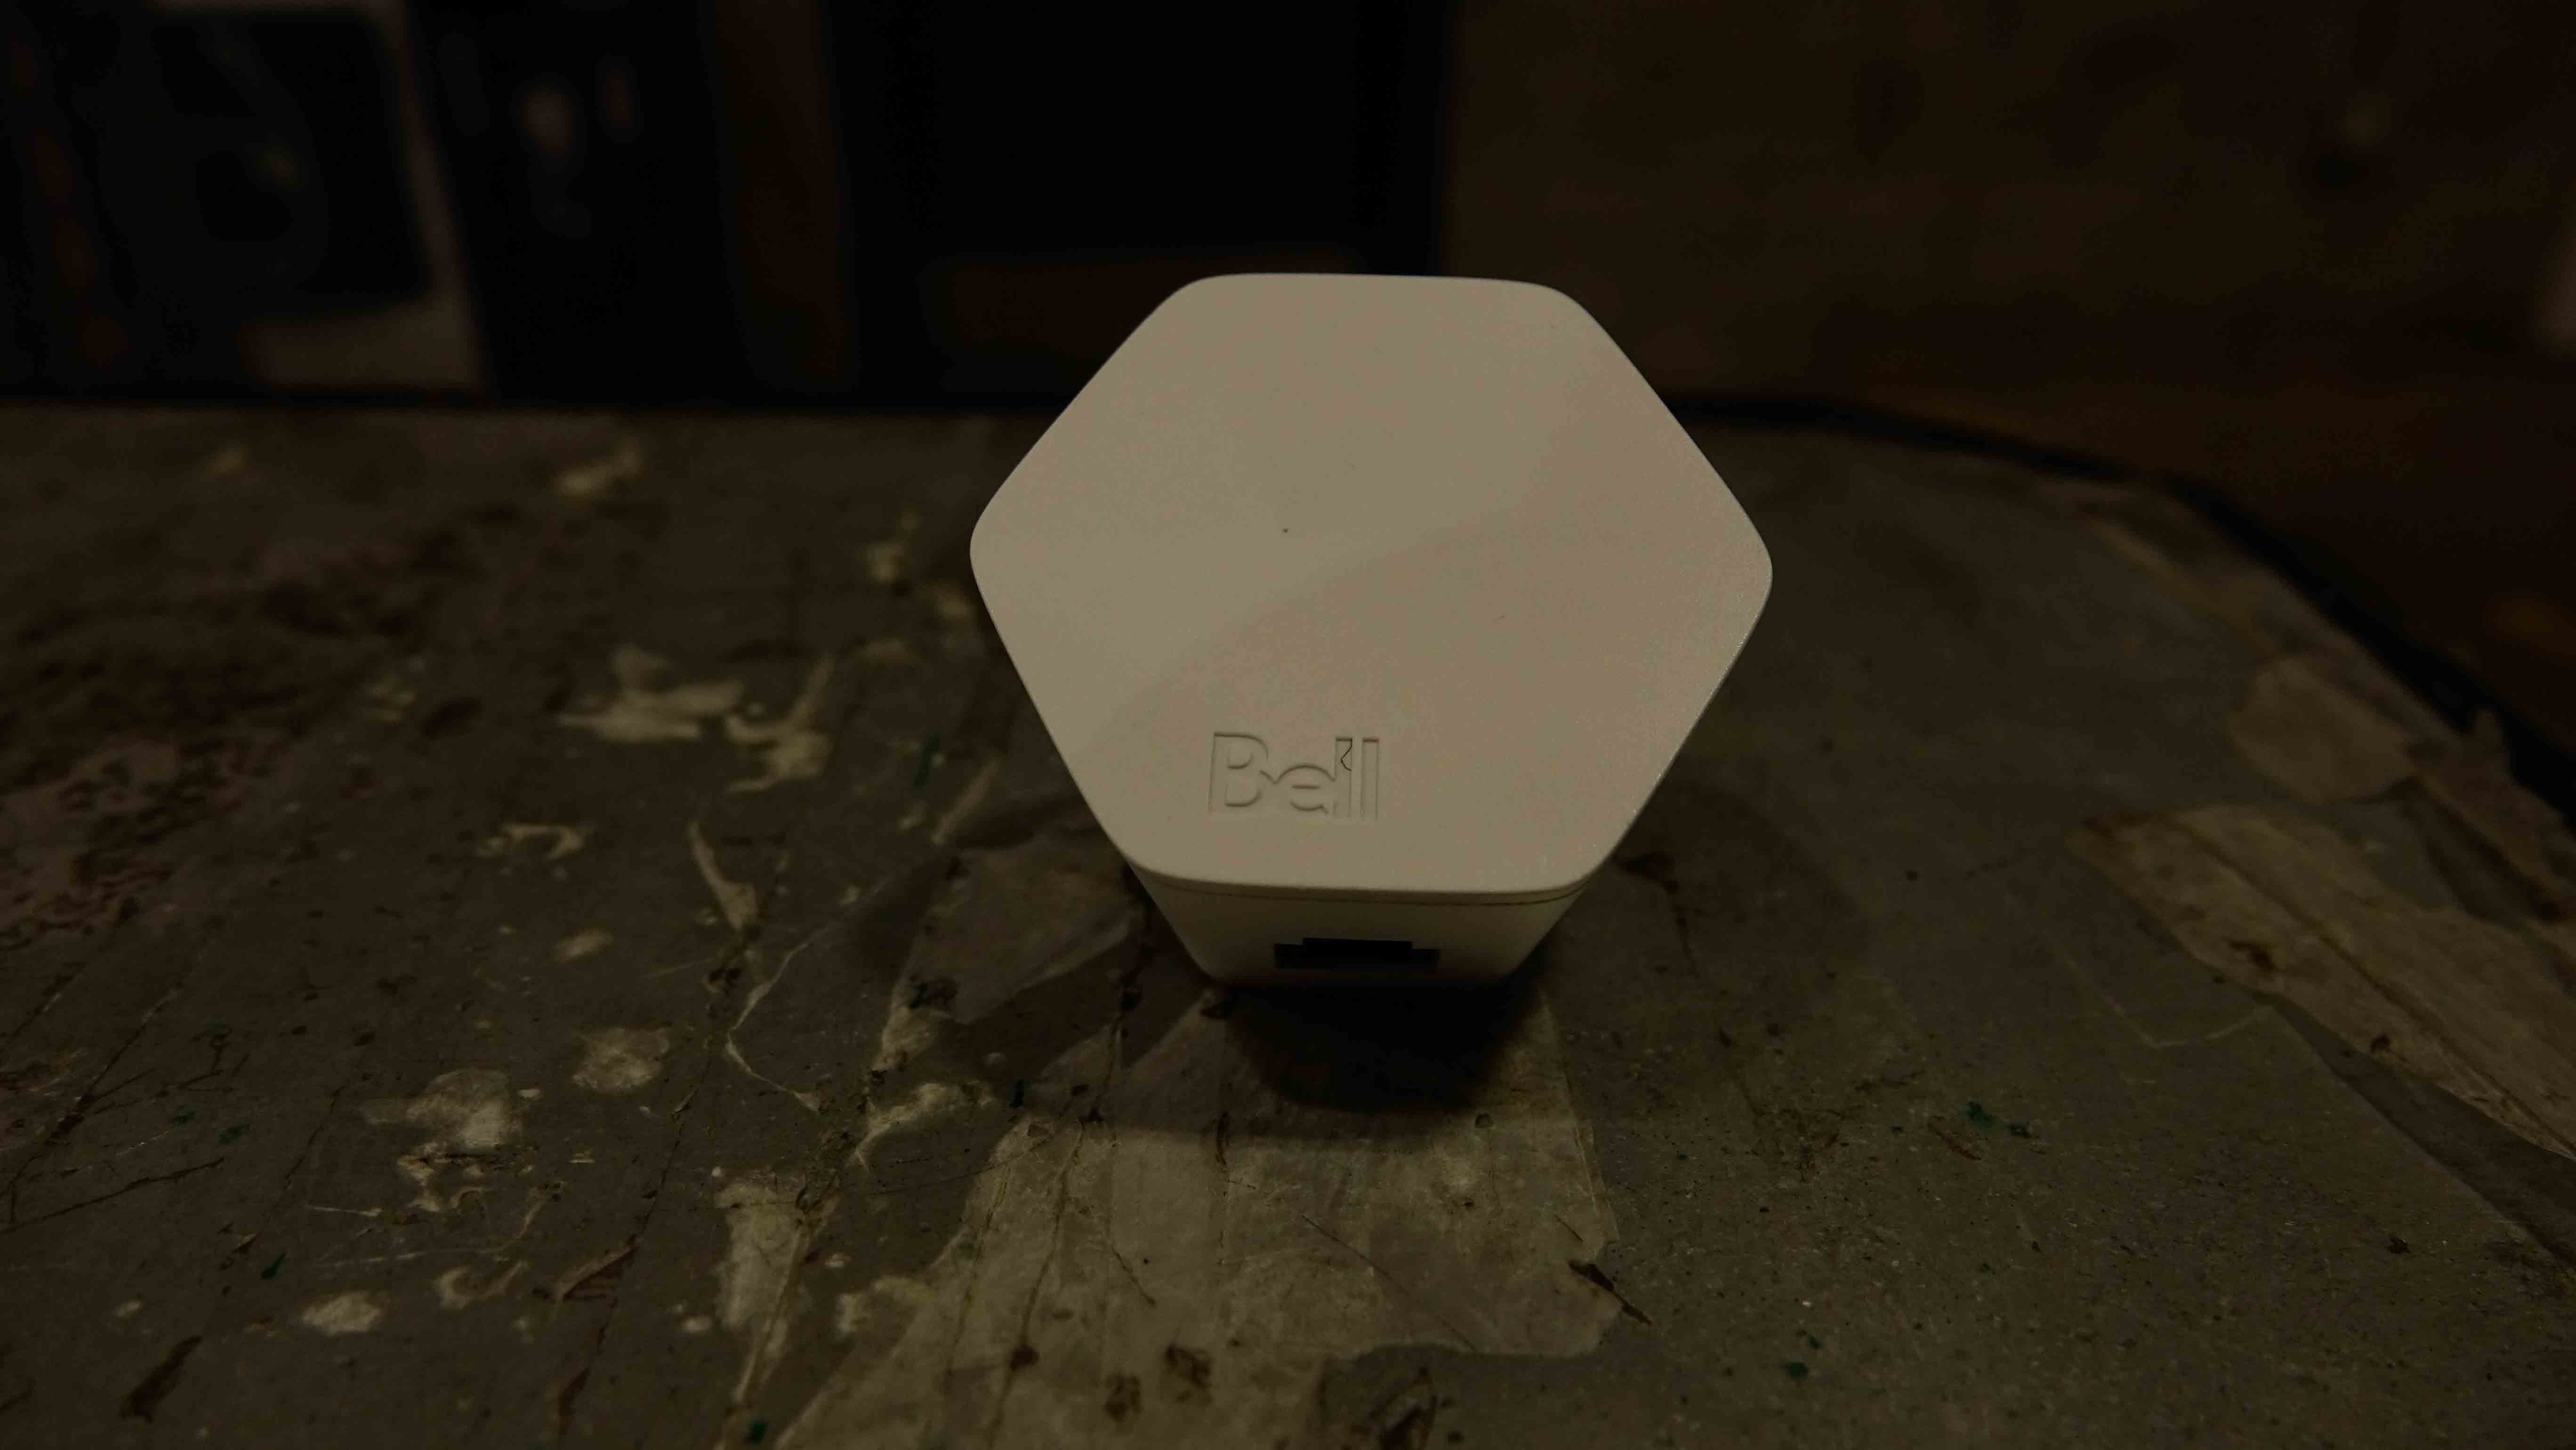pod: (957, 262, 1796, 1015)
